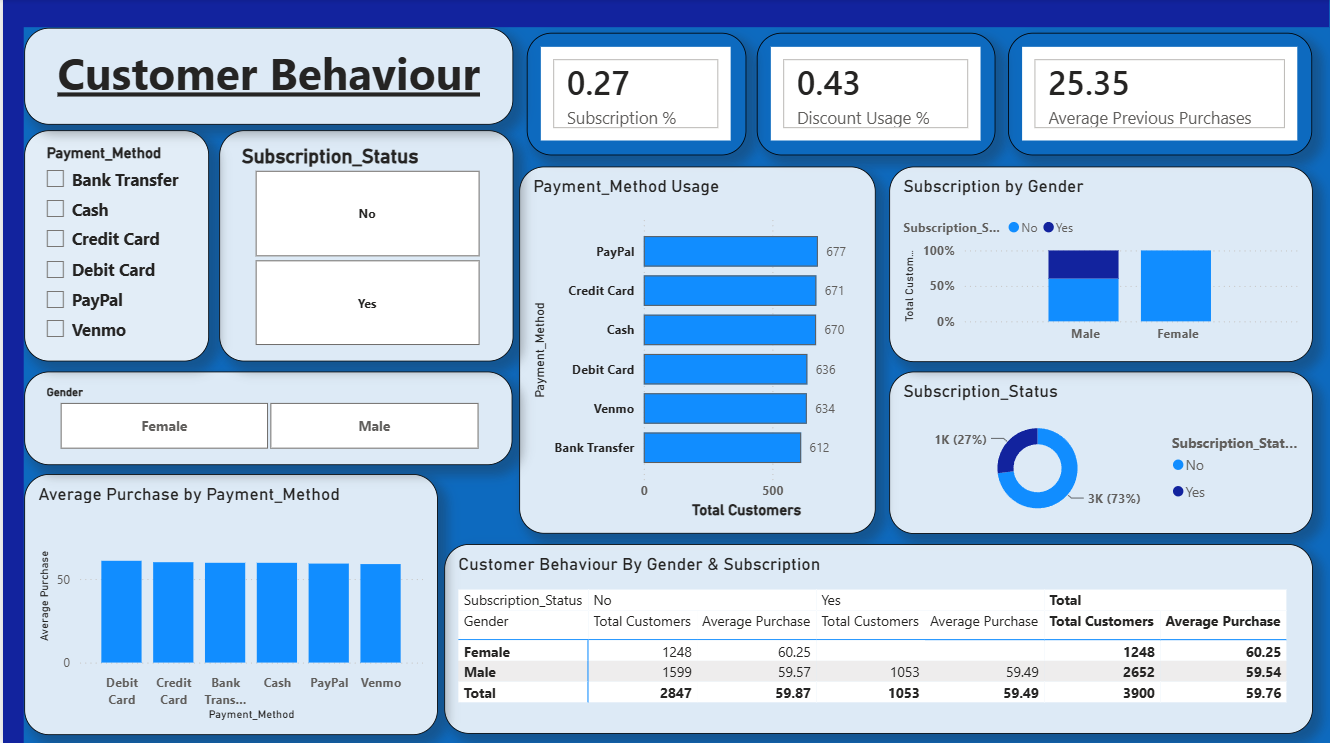

The page's visual inventory and layout, read from the dashboard file:
{"tool":"powerbi","page":{"name":"Customer Behaviour","canvas":[1280,720],"ordinal":2},"visuals":[{"type":"cardVisual","fields":{"Data":["shopping_behavior_Cleaned.Subscription %"]},"box":[505.4,33.1,211.7,118.1],"z":1000},{"type":"cardVisual","fields":{"Data":["shopping_behavior_Cleaned.Discount Usage %"]},"box":[727.2,33.1,230.4,118.1],"z":2000},{"type":"cardVisual","fields":{"Data":["shopping_behavior_Cleaned.Average Previous Purchases"]},"box":[970.6,33.1,293.8,118.1],"z":3000},{"type":"donutChart","title":" Subscription_Status","fields":{"Category":["shopping_behavior_Cleaned.Subscription_Status"],"Y":["shopping_behavior_Cleaned.Total Customers"]},"box":[855.4,360,409,157],"z":4000},{"type":"clusteredBarChart","title":" Payment_Method Usage","fields":{"Category":["shopping_behavior_Cleaned.Payment_Method"],"Y":["shopping_behavior_Cleaned.Total Customers"]},"box":[498.2,161.3,344.2,354.2],"z":5000},{"type":"hundredPercentStackedColumnChart","title":"Subscription by Gender","fields":{"Category":["shopping_behavior_Cleaned.Gender"],"Series":["shopping_behavior_Cleaned.Subscription_Status"],"Y":["shopping_behavior_Cleaned.Total Customers"]},"box":[855.4,161.3,409,188.6],"z":8000},{"type":"pivotTable","title":"Customer Behaviour By Gender & Subscription","fields":{"Columns":["shopping_behavior_Cleaned.Subscription_Status"],"Rows":["shopping_behavior_Cleaned.Gender"],"Values":["shopping_behavior_Cleaned.Total Customers","shopping_behavior_Cleaned.Average Purchase"]},"box":[426.2,525.6,838.1,182.9],"z":9000},{"type":"clusteredColumnChart","fields":{"Category":["shopping_behavior_Cleaned.Payment_Method"],"Y":["shopping_behavior_Cleaned.Average Purchase"]},"box":[20.2,457.9,398.9,252],"z":10000},{"type":"slicer","fields":{"Values":["shopping_behavior_Cleaned.Gender"]},"box":[20.2,360,470.9,90.7],"z":11000},{"type":"slicer","fields":{"Values":["shopping_behavior_Cleaned.Subscription_Status"]},"box":[208.8,126.7,283.7,223.2],"z":12000},{"type":"slicer","fields":{"Values":["shopping_behavior_Cleaned.Payment_Method"]},"box":[20.2,126.7,178.6,223.2],"z":13000},{"type":"textbox","box":[20.2,27.4,472.3,93.6],"z":13001},{"type":"textbox","box":[0,0,20.2,720],"z":13002},{"type":"textbox","box":[0,0,1280.2,27.4],"z":13003}]}

Visuals, with their boxes in screenshot pixels (x1, y1, x2, y2), scaled from the page's 1280x720 canvas onto the 1330x743 screenshot:
cardVisual - shopping_behavior_Cleaned.Subscription %: pyautogui.locateOnScreen(525, 34, 745, 156)
cardVisual - shopping_behavior_Cleaned.Discount Usage %: pyautogui.locateOnScreen(756, 34, 995, 156)
cardVisual - shopping_behavior_Cleaned.Average Previous Purchases: pyautogui.locateOnScreen(1009, 34, 1314, 156)
" Subscription_Status" donutChart: pyautogui.locateOnScreen(889, 372, 1314, 534)
" Payment_Method Usage" clusteredBarChart: pyautogui.locateOnScreen(518, 166, 875, 532)
"Subscription by Gender" hundredPercentStackedColumnChart: pyautogui.locateOnScreen(889, 166, 1314, 361)
"Customer Behaviour By Gender & Subscription" pivotTable: pyautogui.locateOnScreen(443, 542, 1314, 731)
clusteredColumnChart - shopping_behavior_Cleaned.Payment_Method x shopping_behavior_Cleaned.Average Purchase: pyautogui.locateOnScreen(21, 473, 435, 733)
slicer - shopping_behavior_Cleaned.Gender: pyautogui.locateOnScreen(21, 372, 510, 465)
slicer - shopping_behavior_Cleaned.Subscription_Status: pyautogui.locateOnScreen(217, 131, 512, 361)
slicer - shopping_behavior_Cleaned.Payment_Method: pyautogui.locateOnScreen(21, 131, 207, 361)
textbox: pyautogui.locateOnScreen(21, 28, 512, 125)
textbox: pyautogui.locateOnScreen(0, 0, 21, 742)
textbox: pyautogui.locateOnScreen(0, 0, 1329, 28)
